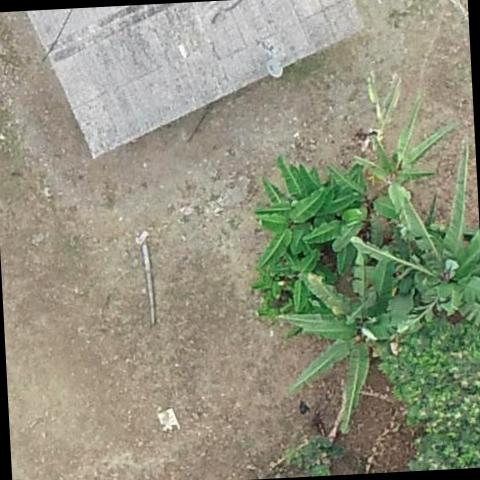Banana-plant: (345, 138, 480, 341), (266, 267, 418, 441), (237, 166, 360, 282)
